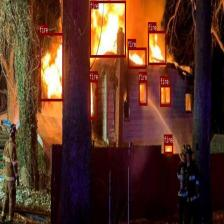fire: (90, 0, 125, 57), (40, 32, 64, 100), (148, 31, 166, 65), (128, 47, 146, 68), (89, 79, 98, 119), (138, 80, 148, 105), (160, 84, 171, 106), (164, 142, 173, 154)
